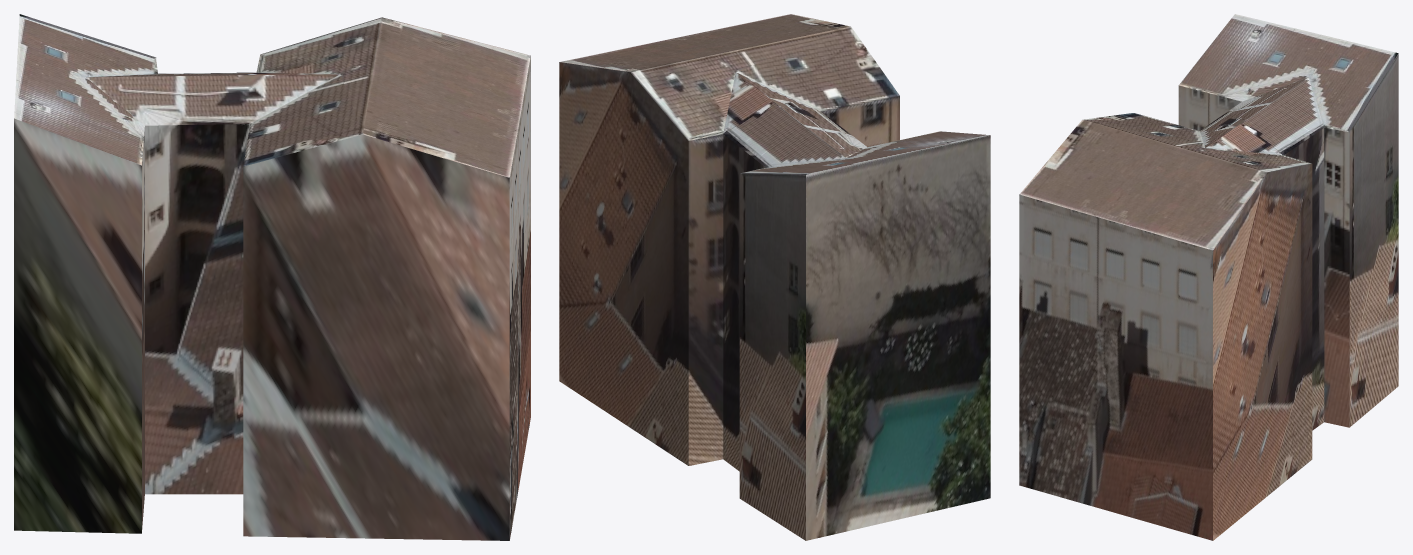
The picture shows the model from 3 angles, left to right: view 1: azimuth 30°, elevation 25°; view 2: azimuth 150°, elevation 25°; view 3: azimuth 270°, elevation 25°; orthographic projection. The views are drawn at different scales.
Visible parts, largest first — view 1: Z_UP; view 2: Z_UP; view 3: Z_UP.
Boxes of the visible parts, x1=… form: Z_UP: x1=14, y1=14, x2=530, y2=540; Z_UP: x1=559, y1=14, x2=990, y2=540; Z_UP: x1=1019, y1=14, x2=1398, y2=540.
Bounding box in the file's own units: 29.64 × 23.4 × 24.14.
Materials: 2 (1 with a texture image).
